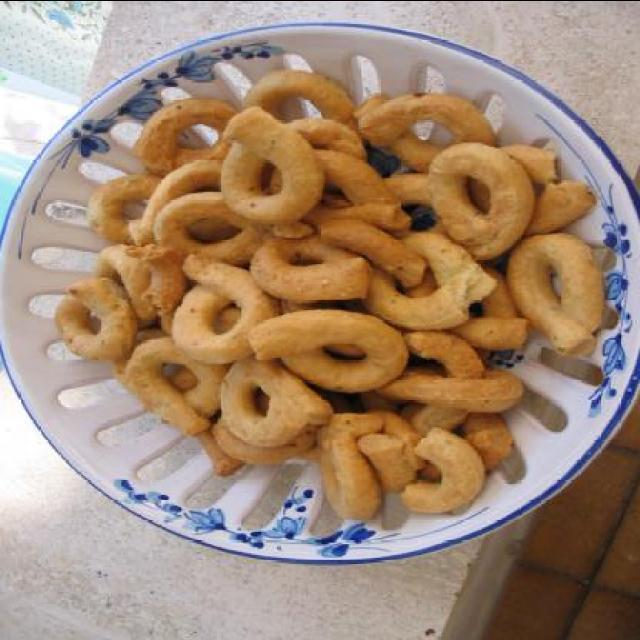Taralli: (53, 64, 601, 522)
